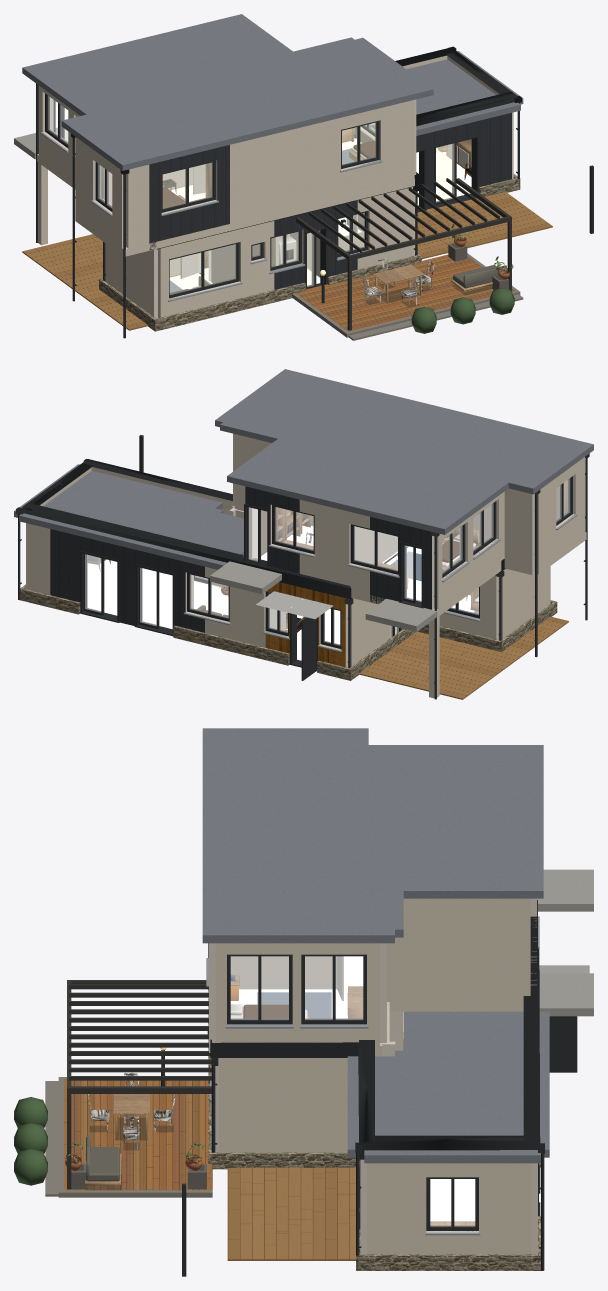
The picture shows the model from 3 angles, top to bottom: view 1: azimuth 30°, elevation 25°; view 2: azimuth 150°, elevation 25°; view 3: azimuth 270°, elevation 25°; orthographic projection. The views are drawn at different scales.
Visible parts, largest first — view 1: body (×22), top (×2); view 2: body (×14), top (×3); view 3: body (×20), top (×2).
Part boxes in pixels (x1,y1,x2,y2): body (×22): (22,85,552,340); top (×2): (22,14,523,338); body (×14): (19,433,586,699); top (×3): (14,369,593,699); body (×20): (14,869,593,1270); top (×2): (202,728,549,1270).
Bounding box in the file's own units: 0.334 × 0.1242 × 0.2652.
Materials: 87 (32 with a texture image).
